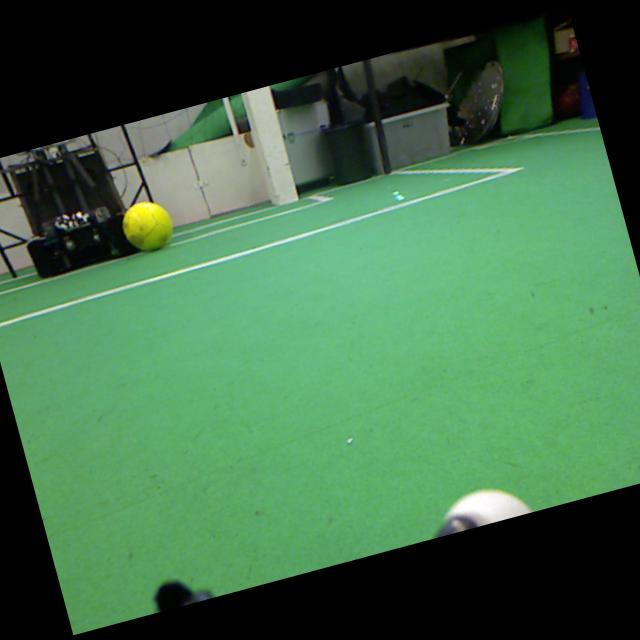ball: (121, 202, 173, 250)
goal: (246, 85, 298, 205)
robot: (7, 141, 141, 278)
